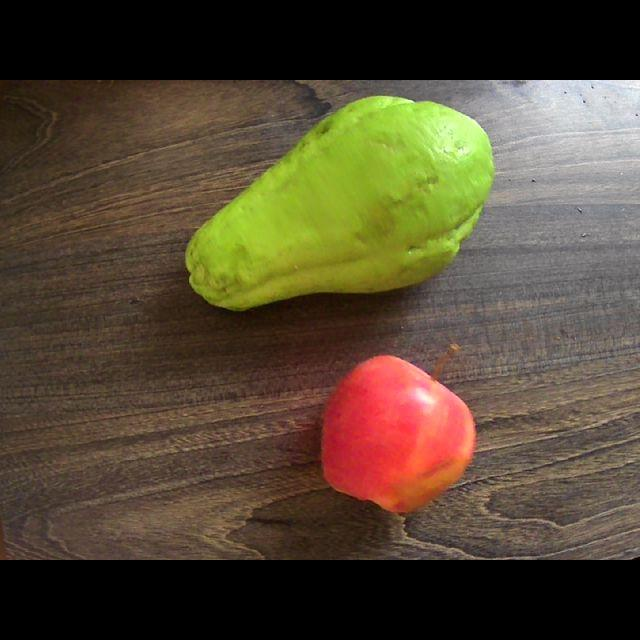chayote: (185, 96, 494, 310)
manzana: (321, 355, 475, 512)
